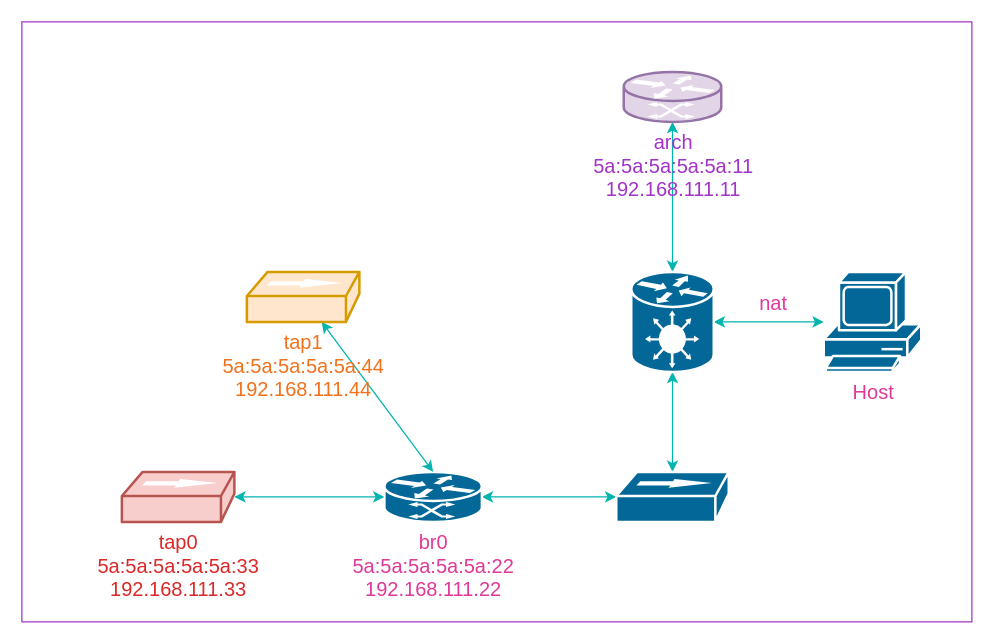
Some shapes in this 994 by 644 pixel diagram are drawn without their labels. The shapes that lost their labels are listed below. From the top down, each one's centre as x and y in pixels, then its label:
[671,321]: Gateway 192.168.111.2
[671,496]: onix 5a:5a: 5a:5a: 5a:20
